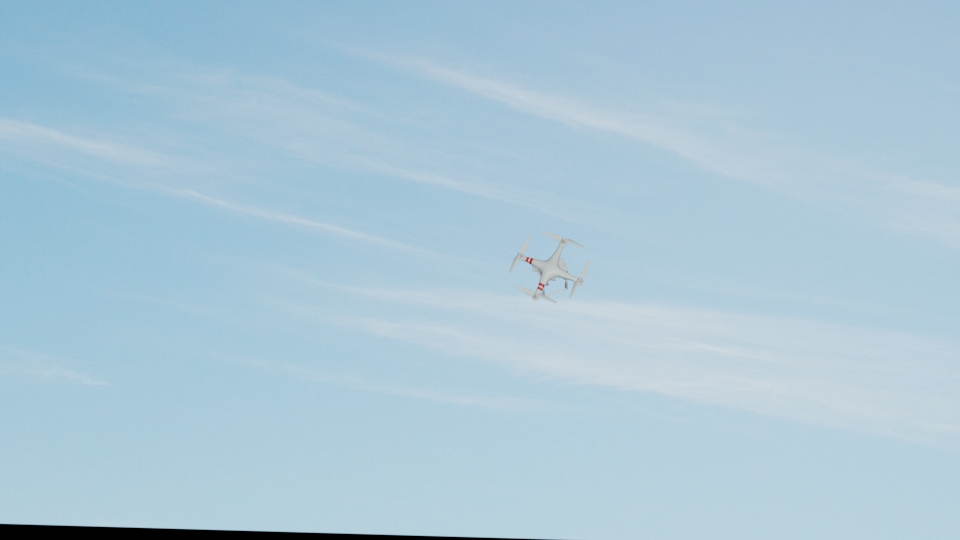drone: (508, 231, 586, 301)
